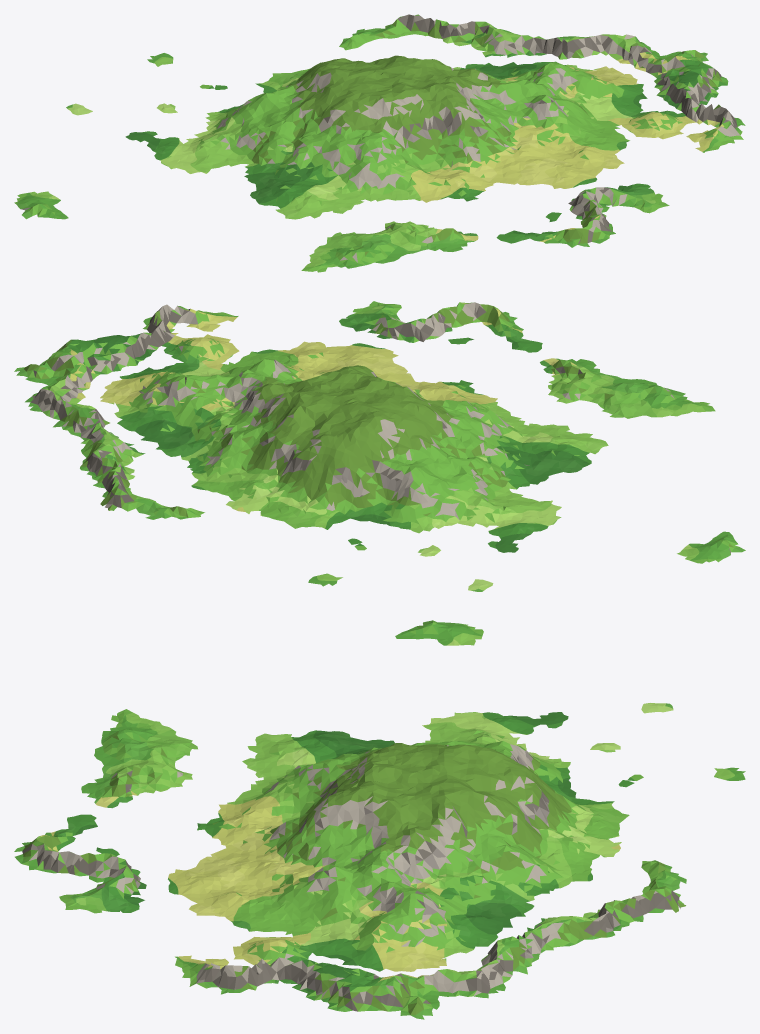
The model's file is Isl-hilly1-Relief.fbx.
The picture shows the model from 3 angles, top to bottom: view 1: azimuth 30°, elevation 25°; view 2: azimuth 150°, elevation 25°; view 3: azimuth 270°, elevation 25°; orthographic projection. The views are drawn at different scales.
Parts seen in each view (by area): view 1: Isl-hilly1-Relief-c21, Isl-hilly1-Relief-c11, Isl-hilly1-Relief-c12, Isl-hilly1-Relief-c22, Isl-hilly1-Relief-c31, Isl-hilly1-Relief-c02, Isl-hilly1-Relief-c20; view 2: Isl-hilly1-Relief-c22, Isl-hilly1-Relief-c12, Isl-hilly1-Relief-c21, Isl-hilly1-Relief-c11, Isl-hilly1-Relief-c31, Isl-hilly1-Relief-c02, Isl-hilly1-Relief-c32; view 3: Isl-hilly1-Relief-c21, Isl-hilly1-Relief-c22, Isl-hilly1-Relief-c11, Isl-hilly1-Relief-c12, Isl-hilly1-Relief-c31, Isl-hilly1-Relief-c32, Isl-hilly1-Relief-c02.
Boxes of the visible parts, left/top/right/bottom form: Isl-hilly1-Relief-c21: left=381, top=58, right=743, bottom=243; Isl-hilly1-Relief-c11: left=244, top=82, right=526, bottom=272; Isl-hilly1-Relief-c12: left=66, top=53, right=380, bottom=173; Isl-hilly1-Relief-c22: left=296, top=14, right=659, bottom=82; Isl-hilly1-Relief-c31: left=658, top=50, right=745, bottom=126; Isl-hilly1-Relief-c02: left=14, top=191, right=60, bottom=219; Isl-hilly1-Relief-c20: left=567, top=227, right=615, bottom=247; Isl-hilly1-Relief-c22: left=30, top=372, right=368, bottom=520; Isl-hilly1-Relief-c12: left=279, top=398, right=561, bottom=591; Isl-hilly1-Relief-c21: left=70, top=301, right=524, bottom=406; Isl-hilly1-Relief-c11: left=370, top=339, right=715, bottom=489; Isl-hilly1-Relief-c31: left=18, top=314, right=154, bottom=376; Isl-hilly1-Relief-c02: left=677, top=537, right=745, bottom=563; Isl-hilly1-Relief-c32: left=14, top=364, right=70, bottom=409; Isl-hilly1-Relief-c21: left=29, top=763, right=418, bottom=990; Isl-hilly1-Relief-c22: left=414, top=761, right=686, bottom=990; Isl-hilly1-Relief-c11: left=67, top=709, right=418, bottom=826; Isl-hilly1-Relief-c12: left=415, top=703, right=745, bottom=826; Isl-hilly1-Relief-c31: left=219, top=969, right=417, bottom=1018; Isl-hilly1-Relief-c32: left=416, top=974, right=503, bottom=1019; Isl-hilly1-Relief-c02: left=415, top=620, right=483, bottom=645.
Size of the model in its own units: 129 by 10.54 by 100.
